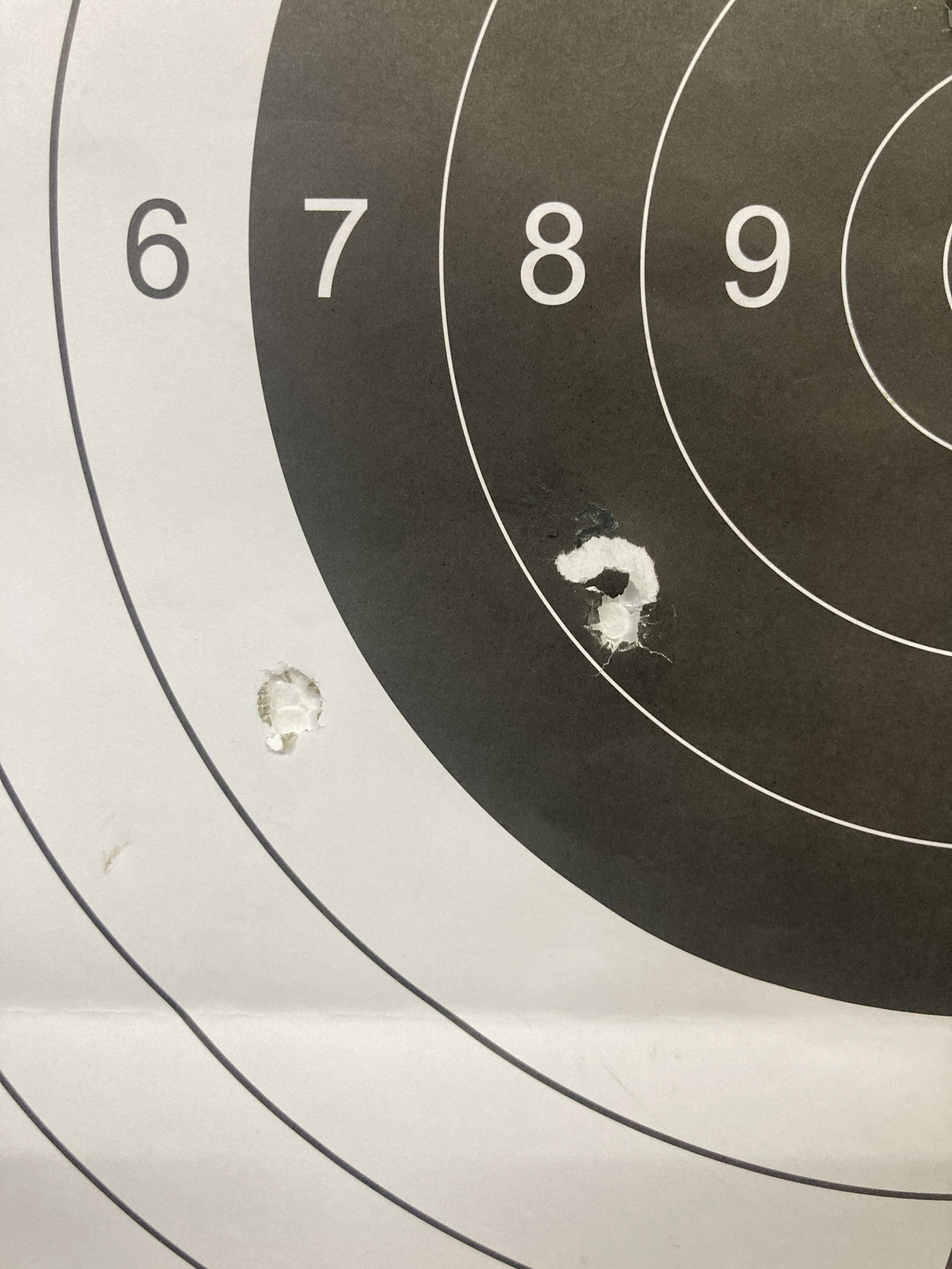hole: (529, 532, 686, 680), (224, 636, 331, 755)
